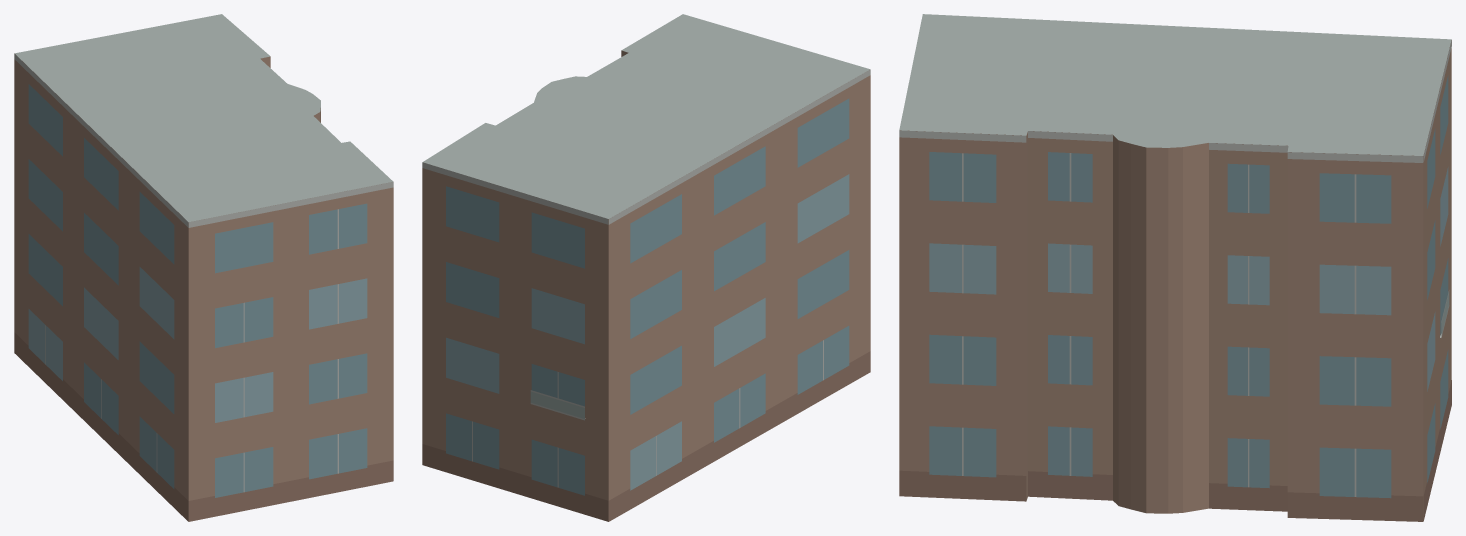
Rendered from survey-upis-32704170.glb.
3 views of the same model, side by side, from view 1: azimuth 30°, elevation 25°; view 2: azimuth 150°, elevation 25°; view 3: azimuth 270°, elevation 25° (orthographic). The views are drawn at different scales.
Parts seen in each view (by area): view 1: survey-upis-32704170.tmp; view 2: survey-upis-32704170.tmp; view 3: survey-upis-32704170.tmp.
Part boxes in pixels (x1=…): survey-upis-32704170.tmp: x1=14, y1=14, x2=393, y2=521; survey-upis-32704170.tmp: x1=422, y1=14, x2=870, y2=521; survey-upis-32704170.tmp: x1=899, y1=14, x2=1451, y2=521.
Size of the model in its own units: 10.59 by 12.7 by 17.39.
